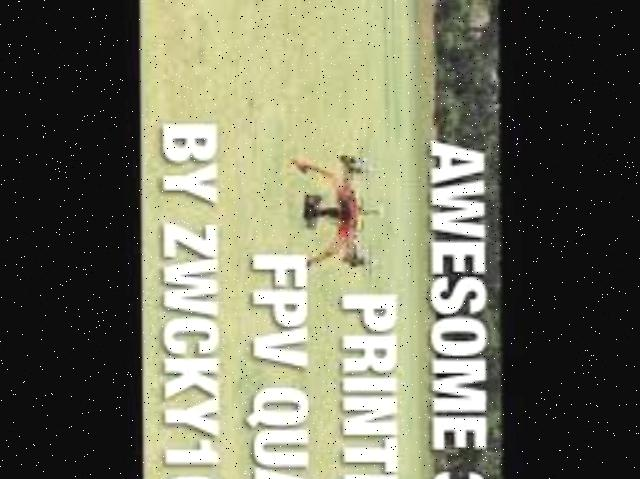drone: (274, 132, 383, 286)
